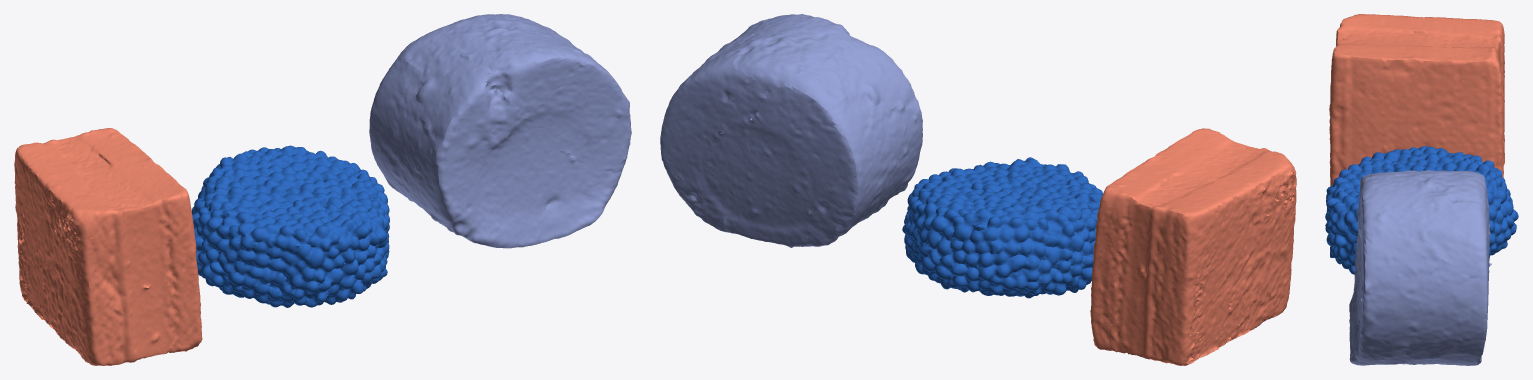
3 views of the same model, side by side, from view 1: azimuth 30°, elevation 25°; view 2: azimuth 150°, elevation 25°; view 3: azimuth 270°, elevation 25° (orthographic). The views are drawn at different scales.
Visible parts, largest first — view 1: split_parent_2, allsorts_oranssi_allsorts_oranssi_0, Ropoli_retopo_Ropoli_retopo_0; view 2: split_parent_2, allsorts_oranssi_allsorts_oranssi_0, Ropoli_retopo_Ropoli_retopo_0; view 3: split_parent_2, allsorts_oranssi_allsorts_oranssi_0, Ropoli_retopo_Ropoli_retopo_0.
Boxes of the visible parts, bbox=[...] form: split_parent_2: bbox=[369, 14, 631, 248]; allsorts_oranssi_allsorts_oranssi_0: bbox=[14, 128, 202, 365]; Ropoli_retopo_Ropoli_retopo_0: bbox=[191, 145, 389, 307]; split_parent_2: bbox=[660, 14, 922, 247]; allsorts_oranssi_allsorts_oranssi_0: bbox=[1090, 128, 1296, 365]; Ropoli_retopo_Ropoli_retopo_0: bbox=[902, 157, 1102, 298]; split_parent_2: bbox=[1349, 170, 1491, 365]; allsorts_oranssi_allsorts_oranssi_0: bbox=[1329, 14, 1504, 186]; Ropoli_retopo_Ropoli_retopo_0: bbox=[1325, 146, 1518, 274].
Bounding box in the file's own units: 1 × 0.3339 × 0.3267.
